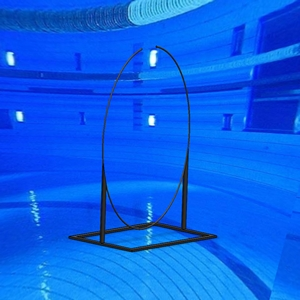circle: (68, 45, 219, 253)
